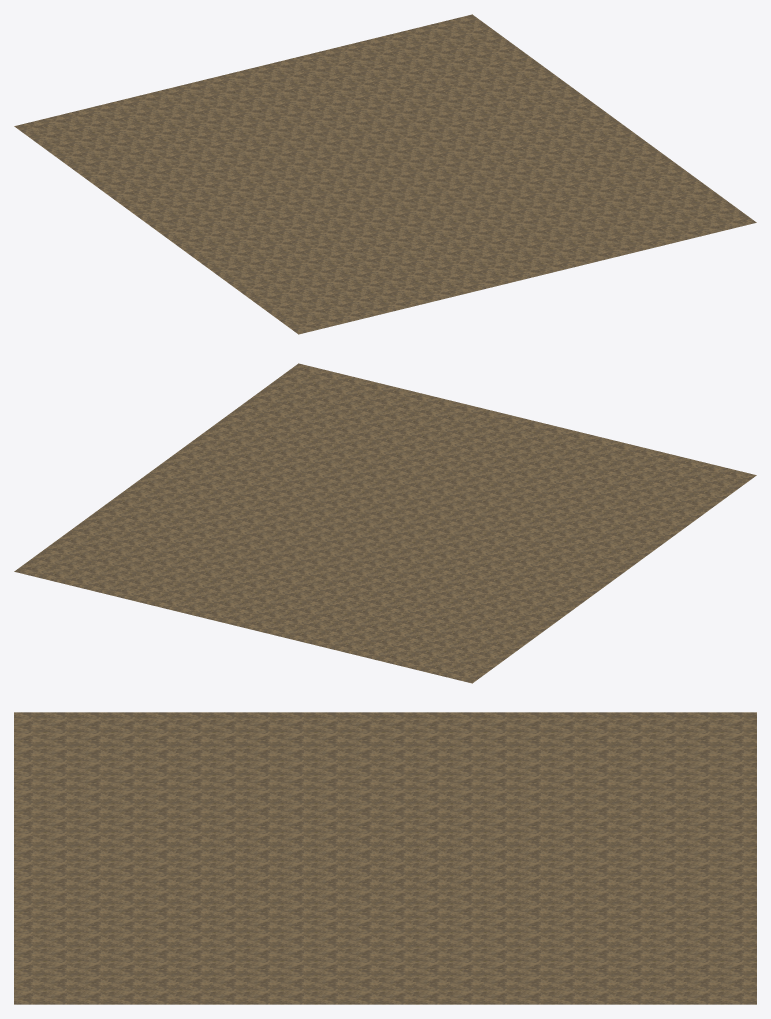
Rendered from Ground.fbx.
3 views of the same model, one above another, from view 1: azimuth 30°, elevation 25°; view 2: azimuth 150°, elevation 25°; view 3: azimuth 270°, elevation 25° (orthographic). The views are drawn at different scales.
Visible parts, largest first — view 1: Plane; view 2: Plane; view 3: Plane.
Part boxes in pixels (x1=…): Plane: x1=14, y1=14, x2=756, y2=334; Plane: x1=14, y1=363, x2=756, y2=683; Plane: x1=14, y1=712, x2=756, y2=1004.
Bounding box in the file's own units: 50956 × 0.00893 × 54785.
